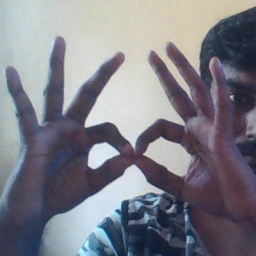B: (75, 81, 202, 194)
